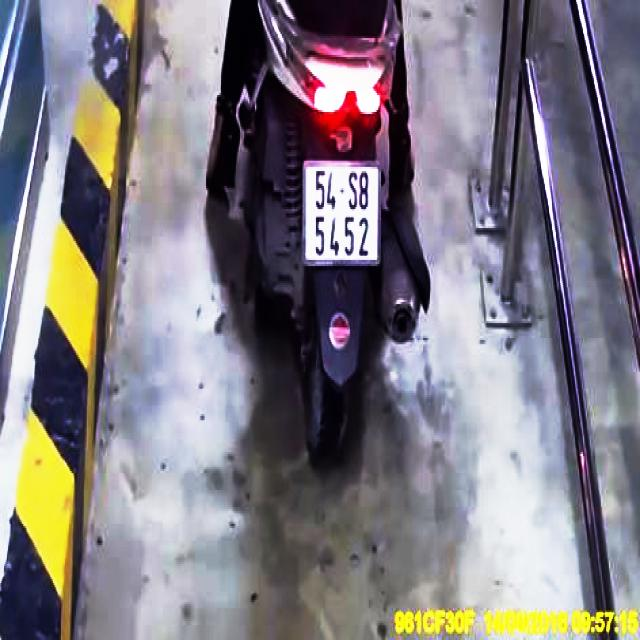license_plate: (303, 164, 382, 264)
